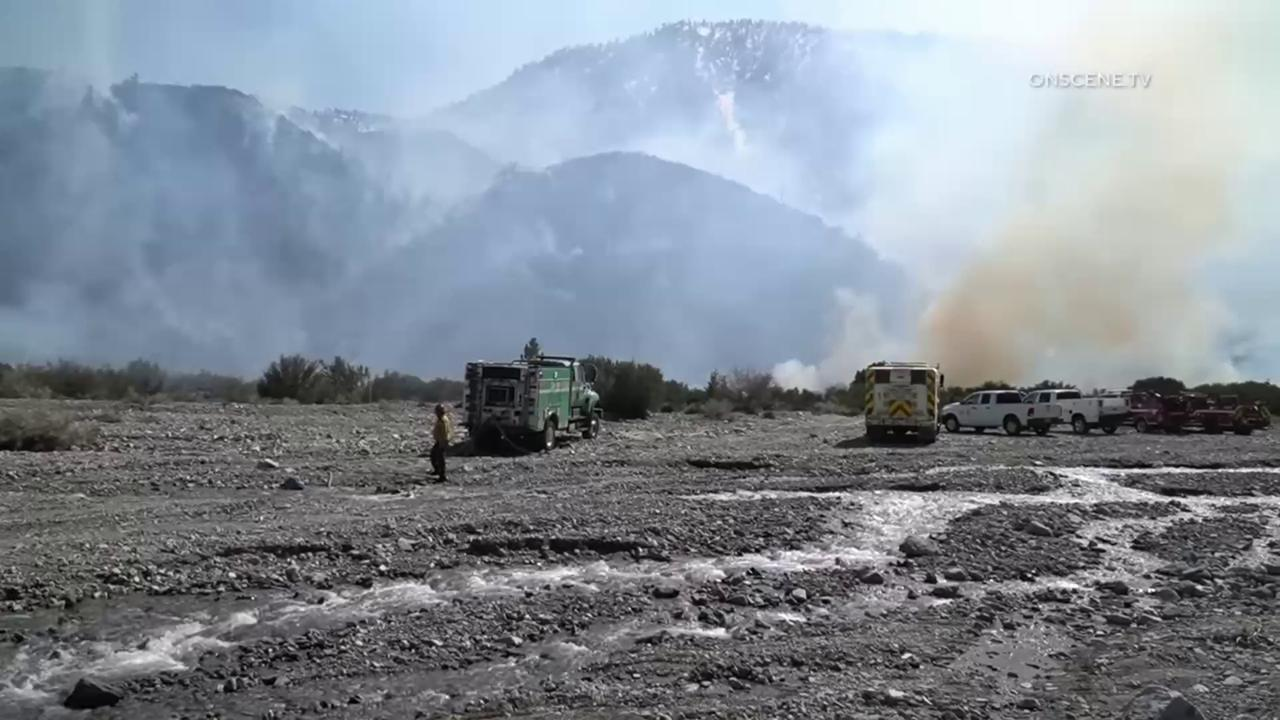smoke: (0, 0, 1280, 395)
